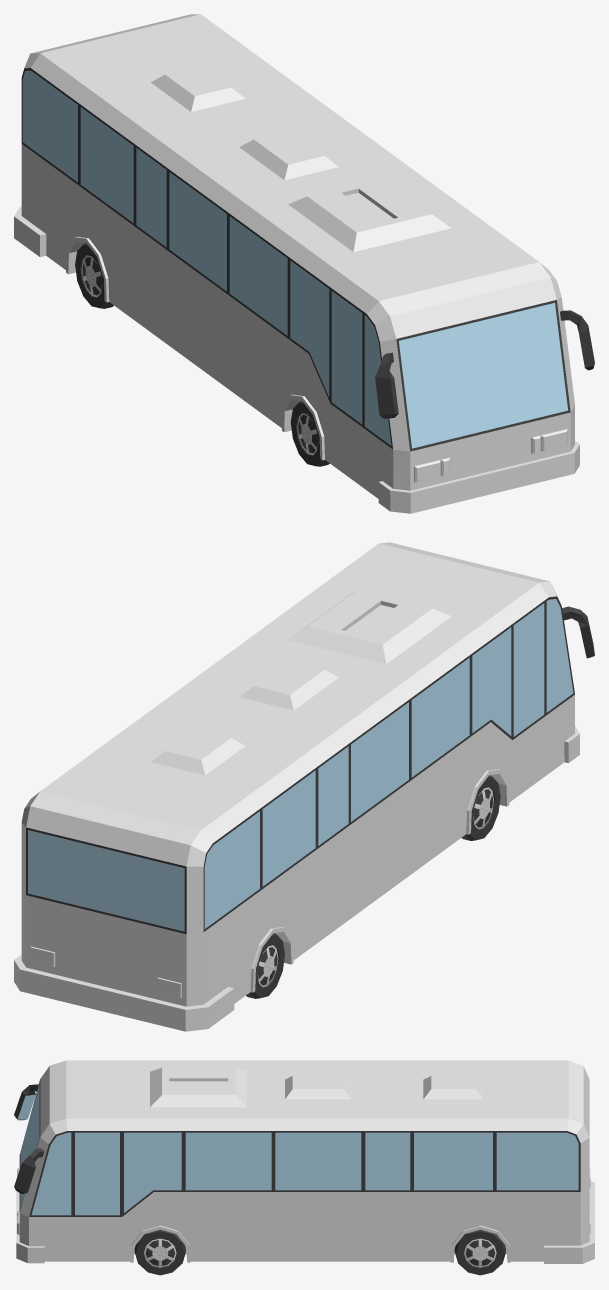
The model's file is bus-player.glb.
3 views of the same model, one above another, from view 1: azimuth 30°, elevation 25°; view 2: azimuth 150°, elevation 25°; view 3: azimuth 270°, elevation 25° (orthographic). The views are drawn at different scales.
Parts seen in each view (by area): view 1: body; view 2: body; view 3: body.
Boxes of the visible parts, left/top/right/bottom form: body: left=14, top=14, right=594, bottom=513; body: left=14, top=542, right=594, bottom=1031; body: left=14, top=1060, right=594, bottom=1275.
Size of the model in its own units: 50.06 by 48.81 by 157.
1 material, 1 textured.
